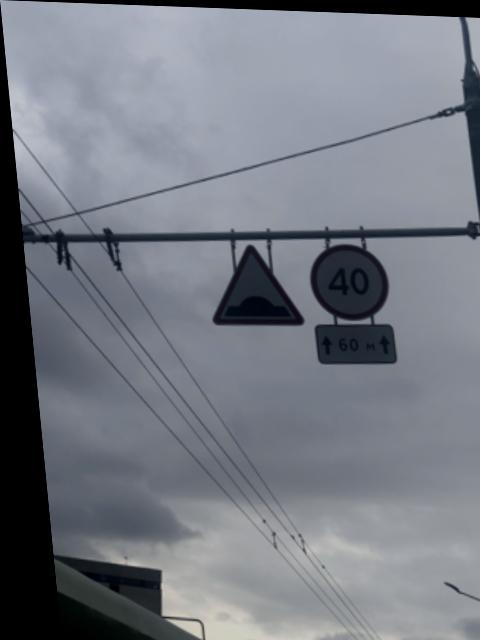limit40: (299, 237, 386, 322)
